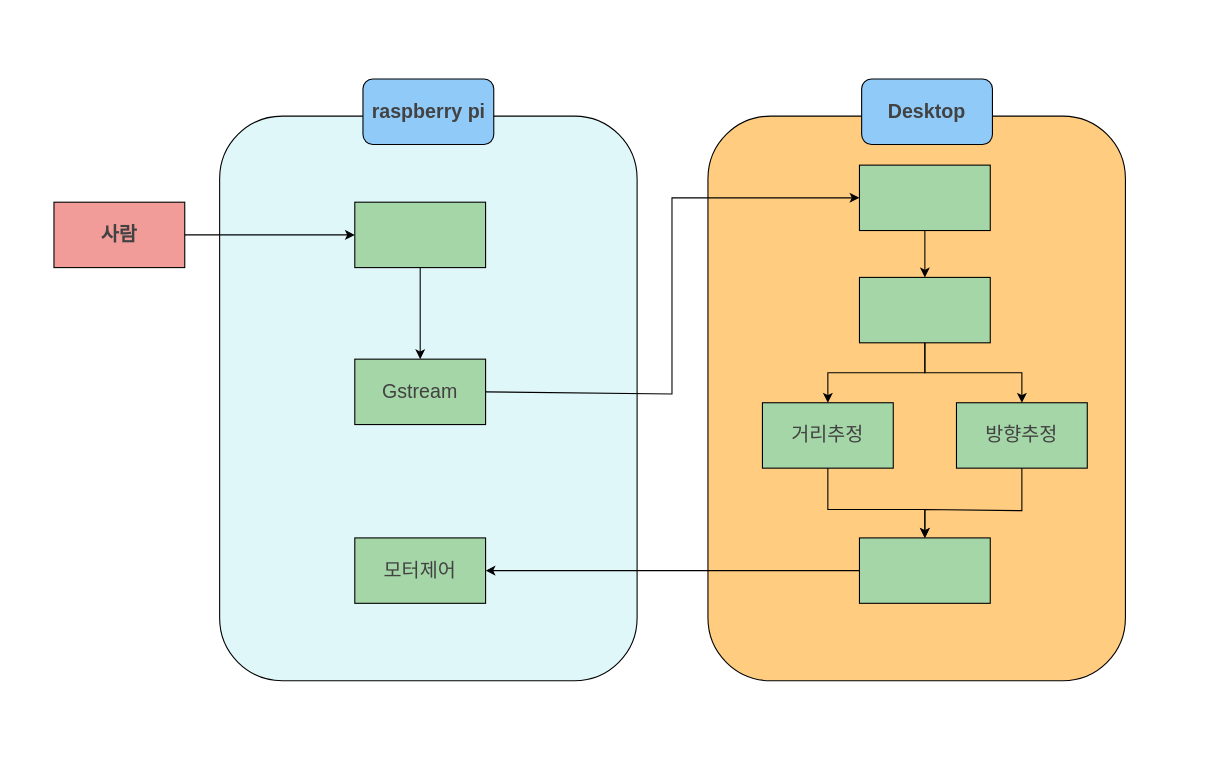
This 1209x773 diagram has some shape labels left out. The shapes that lost their labels are listed below. From the top down, each one's centre as x and y in pixels, then its label:
At (924,197): "OpenCV".
At (420,234): "카메라".
At (924,309): "객체 인식".
At (924,570): "모터 명령 송신".
